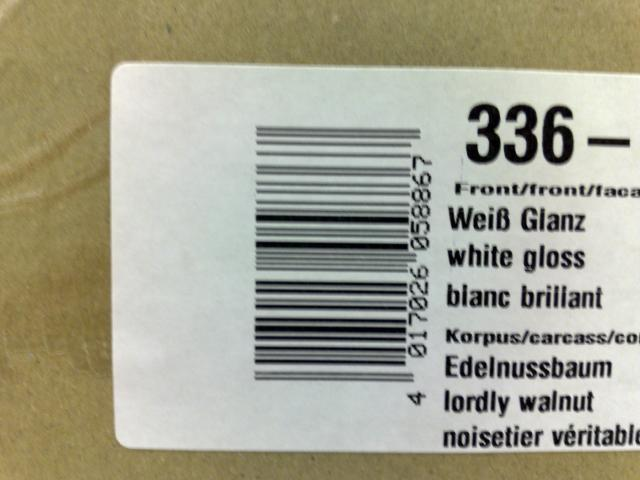Barcode: (237, 114, 440, 423)
